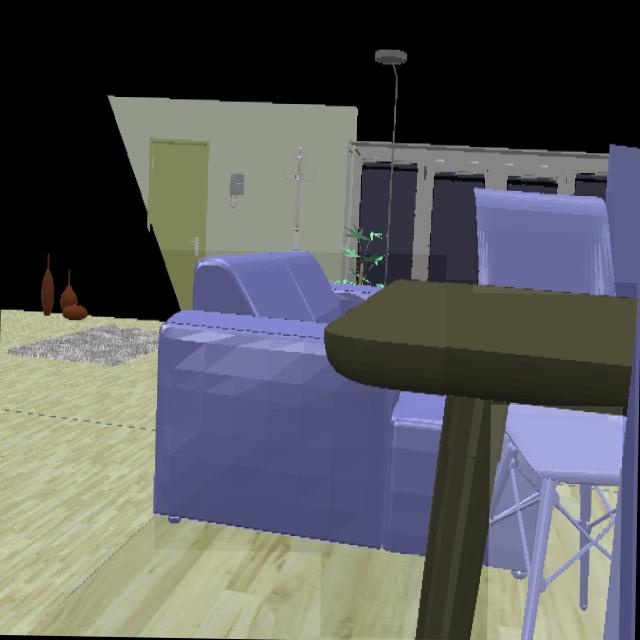chair: (489, 405, 621, 640), (475, 190, 613, 295)
sofa: (155, 252, 444, 554)
table: (325, 280, 636, 640)
